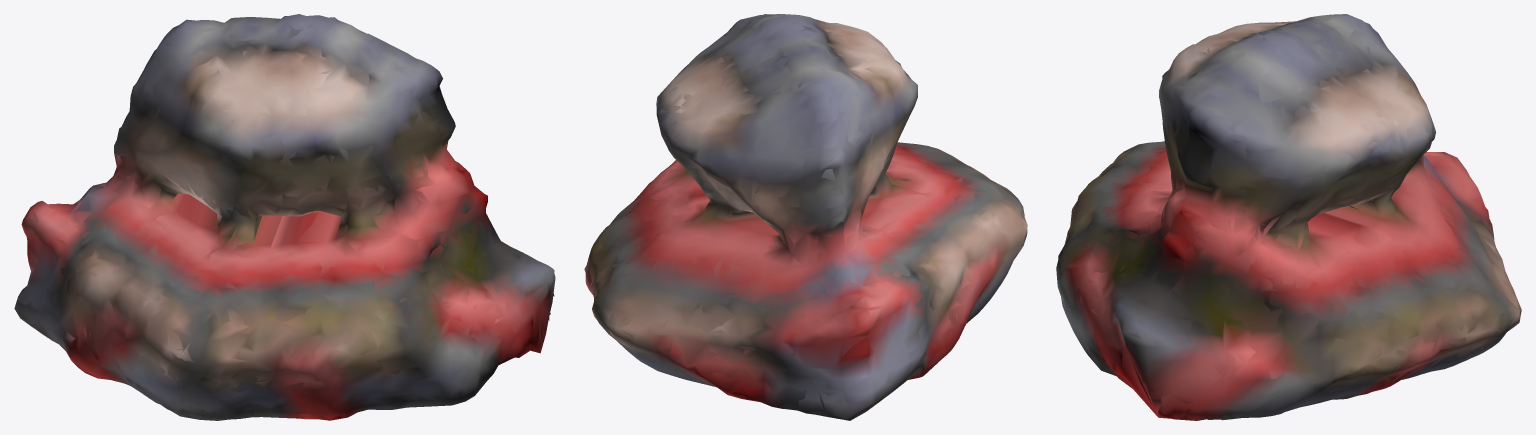
File: soviet_battle_bunker.glb
3 renders of one model, left to right at view 1: azimuth 30°, elevation 25°; view 2: azimuth 150°, elevation 25°; view 3: azimuth 270°, elevation 25°, orthographic. The views are drawn at different scales.
Parts seen in each view (by area): view 1: soviet_battle_bunker; view 2: soviet_battle_bunker; view 3: soviet_battle_bunker.
Part boxes in pixels (x1,y1,x2,y2): soviet_battle_bunker: (14,14,555,420); soviet_battle_bunker: (584,14,1027,420); soviet_battle_bunker: (1056,14,1521,420).
Size of the model in its own units: 1.89 by 1.47 by 2.03.
